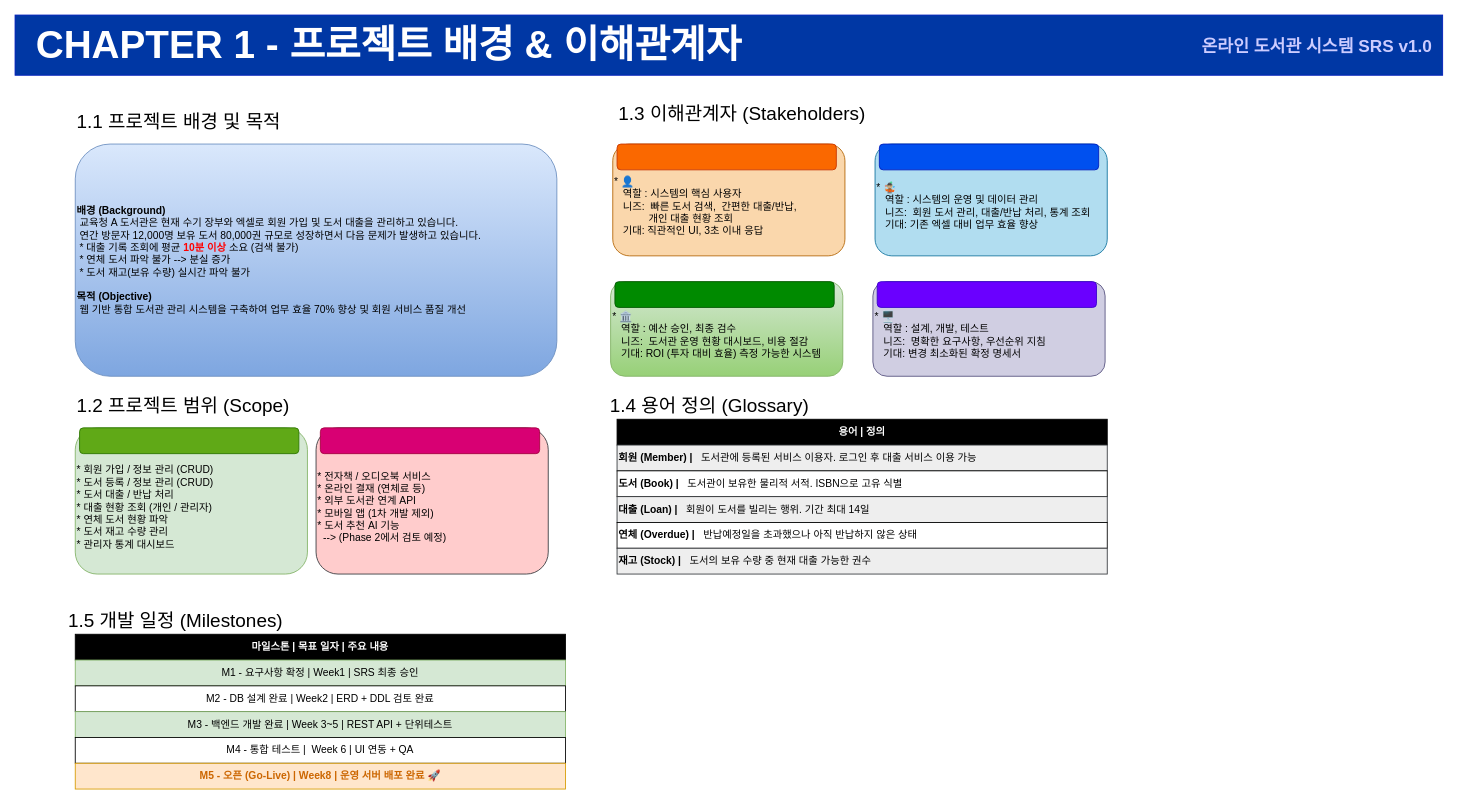
This 1458x804 diagram has some shape labels left out. Each missing label, with the centre of its shape:
✅포함 (IN Scope): point (189, 440)
❌제외 (OUT of Scope): point (429, 440)
개발팀(시스템 구현자): point (986, 294)
도서관 사서 (관리자): point (988, 156)
도서관 회원(일반 사용자): point (726, 156)
도서관장(의사 결정자 / 발주자): point (724, 294)
